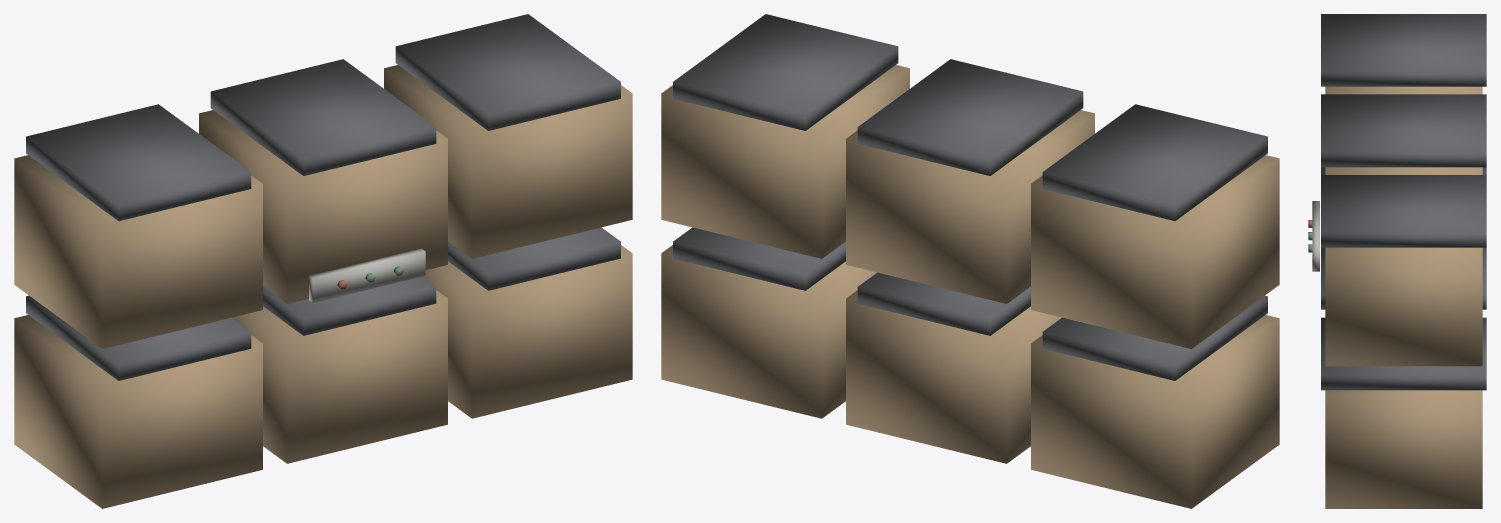
The model's file is market_produce_rack.glb.
3 renders of one model, left to right at view 1: azimuth 30°, elevation 25°; view 2: azimuth 150°, elevation 25°; view 3: azimuth 270°, elevation 25°, orthographic. The views are drawn at different scales.
Visible parts, largest first — view 1: world; view 2: world; view 3: world.
Boxes of the visible parts, x1,y1,x2,y2 form: world: (14,14,632,508); world: (661,14,1279,508); world: (1308,14,1486,508).
Bounding box in the file's own units: 1.32 × 0.72 × 0.431.
